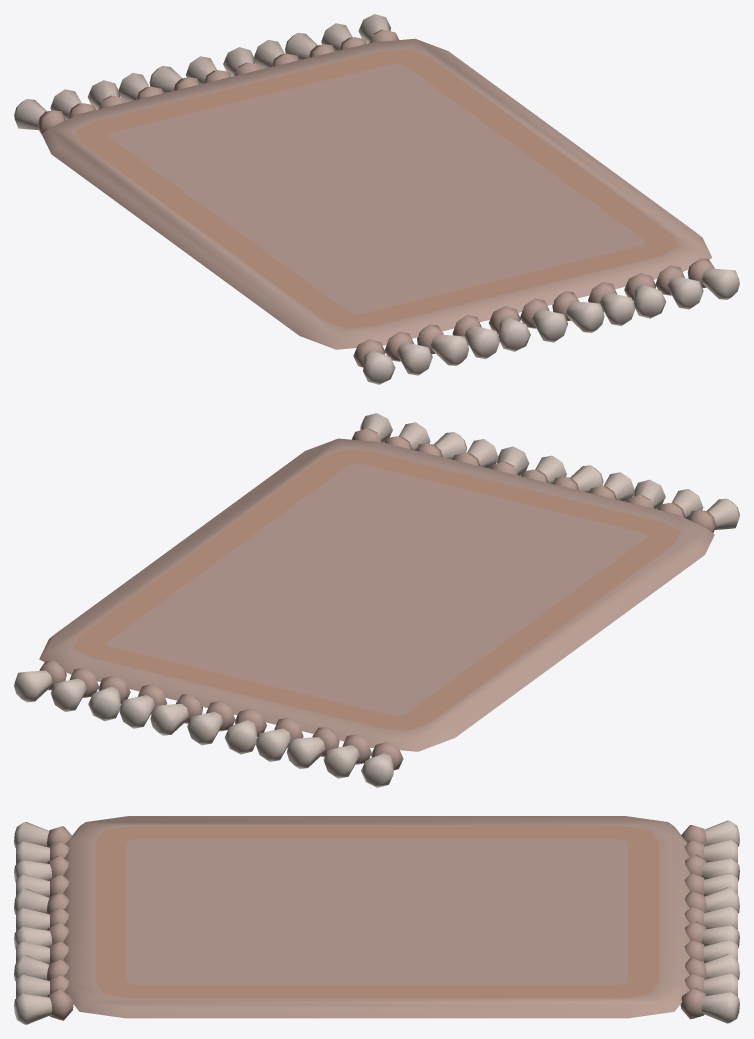
The model's file is carpet-tasseled-rectangle.glb.
The picture shows the model from 3 angles, top to bottom: view 1: azimuth 30°, elevation 25°; view 2: azimuth 150°, elevation 25°; view 3: azimuth 270°, elevation 25°; orthographic projection.
Parts seen in each view (by area): view 1: carpet-tasseled-rectangle; view 2: carpet-tasseled-rectangle; view 3: carpet-tasseled-rectangle.
Part boxes in pixels (x1,y1,x2,y2): carpet-tasseled-rectangle: [14, 14, 739, 384]; carpet-tasseled-rectangle: [14, 413, 739, 787]; carpet-tasseled-rectangle: [14, 816, 739, 1024].
Size of the model in its own units: 1.5 by 0.1082 by 2.32.
